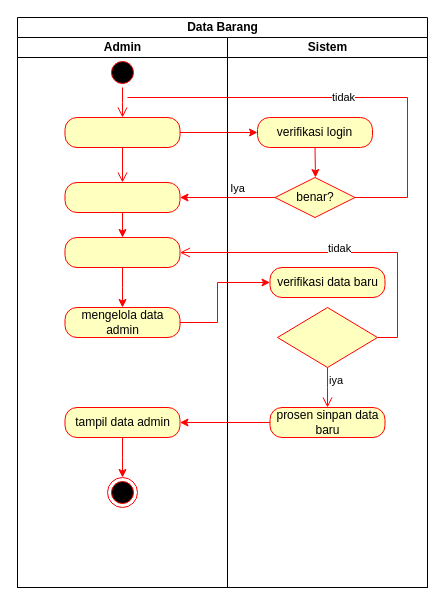
Image size: 445x605. Some labels were removed from this diagram. The shapes that lost their labels are listed below. From the top down, each one's centre as x and y in pixels, then its label:
(x=122, y=132): mengisi form login
(x=122, y=197): tampil dashboard
(x=122, y=252): masuk menu data admin
(x=327, y=337): data lengkap?
